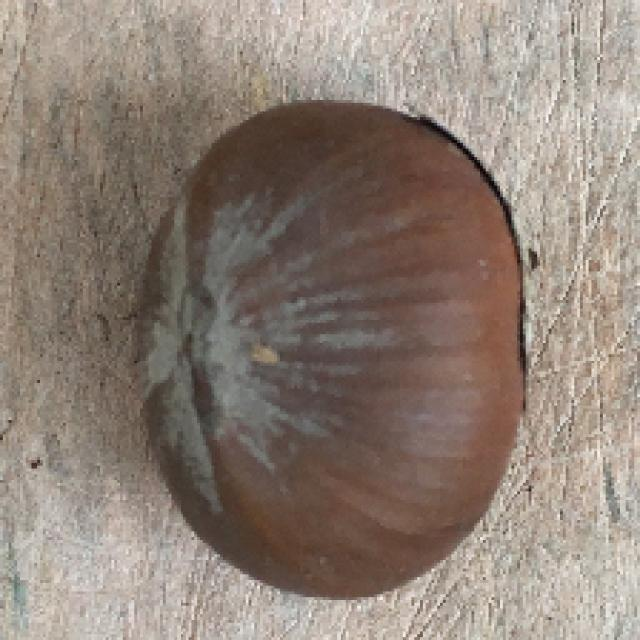damagedHazelnut: (119, 94, 540, 596)
